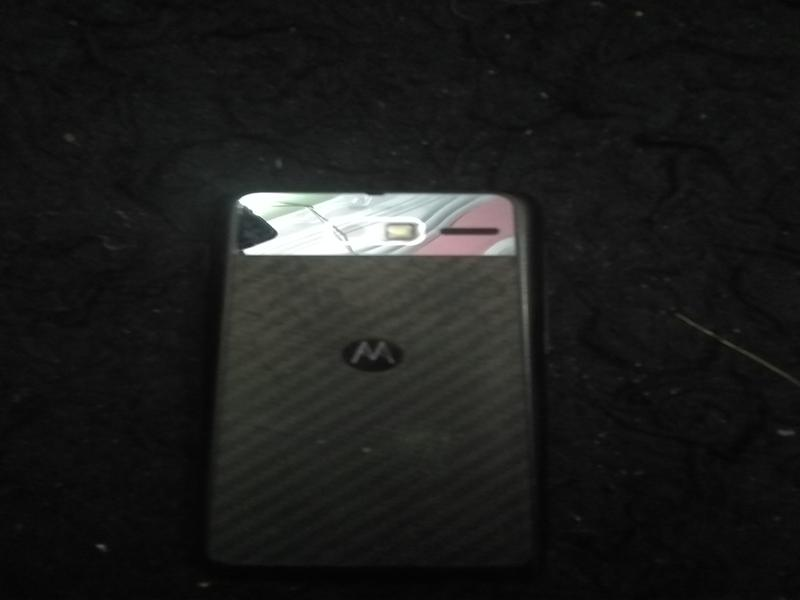moto: (216, 188, 536, 569)
